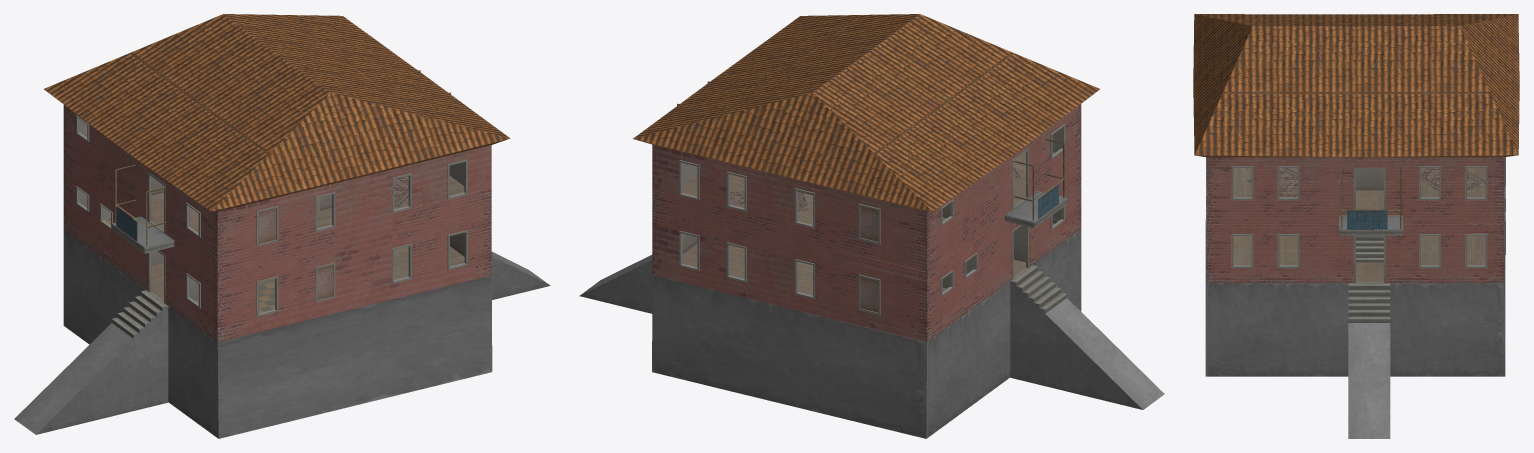
Rendered from red_house.glb.
The picture shows the model from 3 angles, left to right: view 1: azimuth 30°, elevation 25°; view 2: azimuth 150°, elevation 25°; view 3: azimuth 270°, elevation 25°; orthographic projection. The views are drawn at different scales.
Parts seen in each view (by area): view 1: i; view 2: i; view 3: i.
Part boxes in pixels (box(x1,y1,x2,y2)): i: box(14, 14, 550, 438); i: box(579, 14, 1164, 438); i: box(1193, 14, 1519, 438).
Bounding box in the file's own units: 32.47 × 16.99 × 17.6.
1 material, 1 textured.
